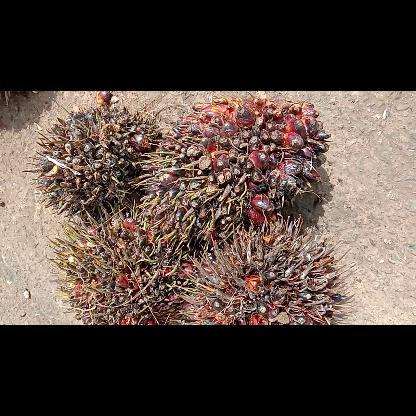TBS abnormal: (158, 95, 332, 221), (43, 202, 215, 324), (186, 224, 352, 324), (38, 106, 156, 210)
